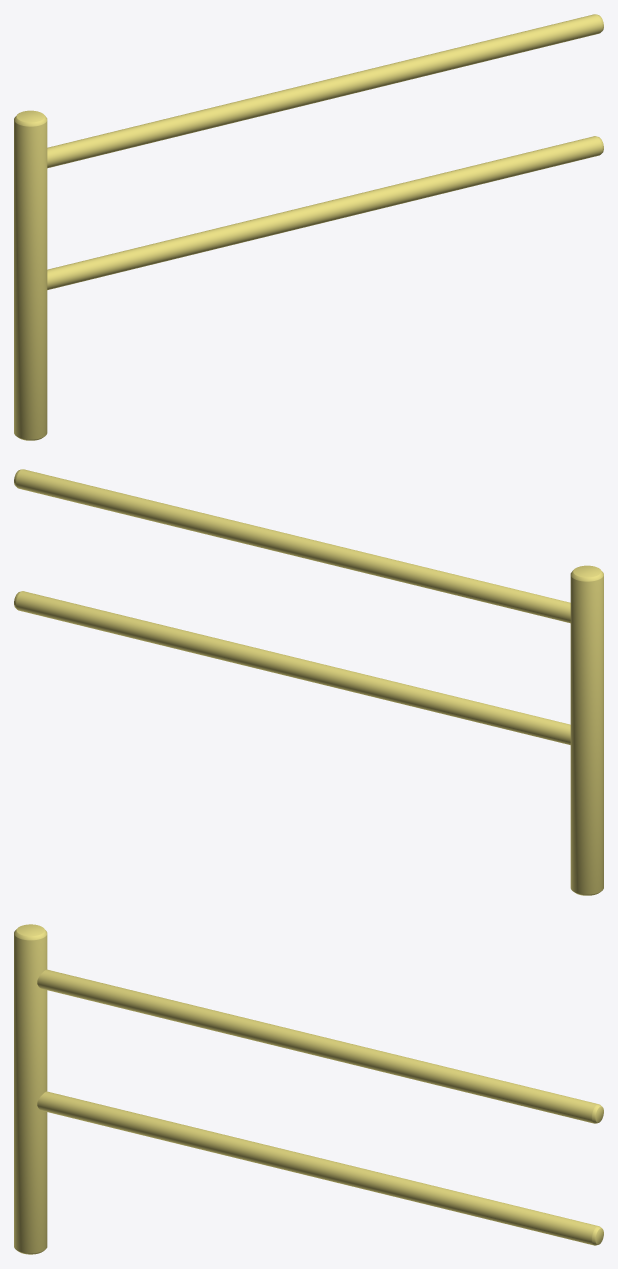
The model's file is WoodenFence.fbx.
3 renders of one model, top to bottom at view 1: azimuth 30°, elevation 25°; view 2: azimuth 150°, elevation 25°; view 3: azimuth 330°, elevation 25°, orthographic.
Visible parts, largest first — view 1: Fence; view 2: Fence; view 3: Fence.
Boxes of the visible parts, bbox=[...] form: Fence: bbox=[14, 14, 603, 440]; Fence: bbox=[14, 469, 603, 895]; Fence: bbox=[14, 924, 603, 1254].
Bounding box in the file's own units: 92.21 × 48.06 × 4.58.
